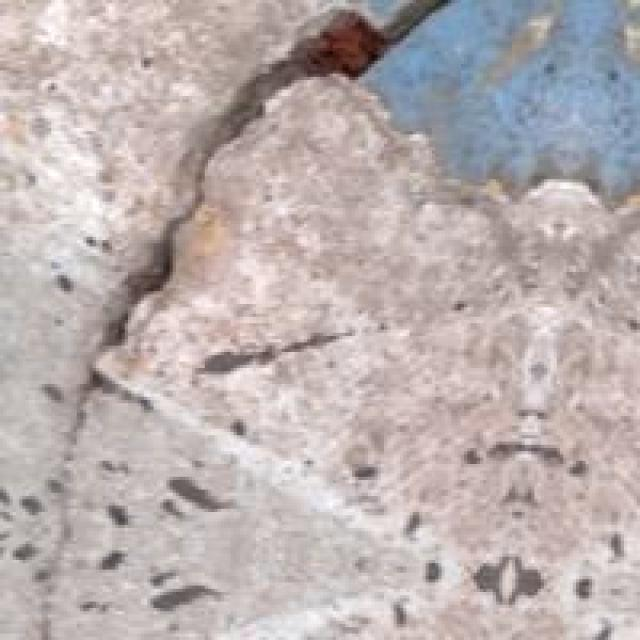crack: (62, 0, 476, 438)
